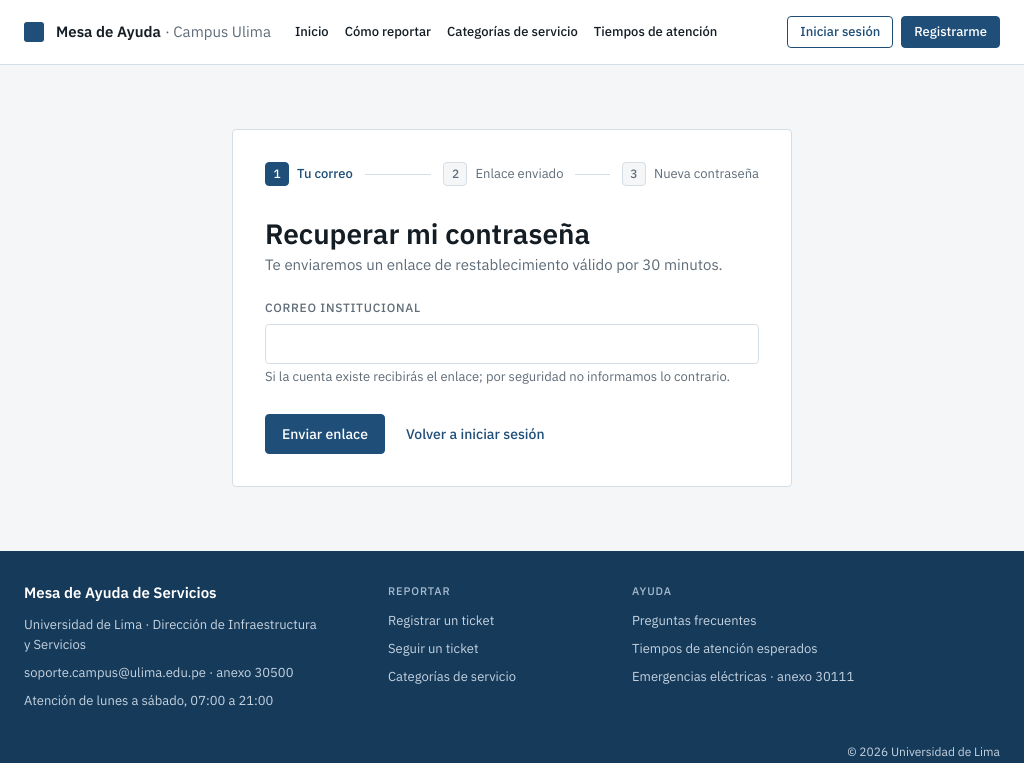
Test case: ForgotPasswordPage › con un correo sin cuenta muestra el mismo aviso, pero no llega ningún correo
Type "nadie.registrado@ulima.edu.pe" into the field labelled "Correo institucional" at (512, 344), box 265,324 -> 759,364
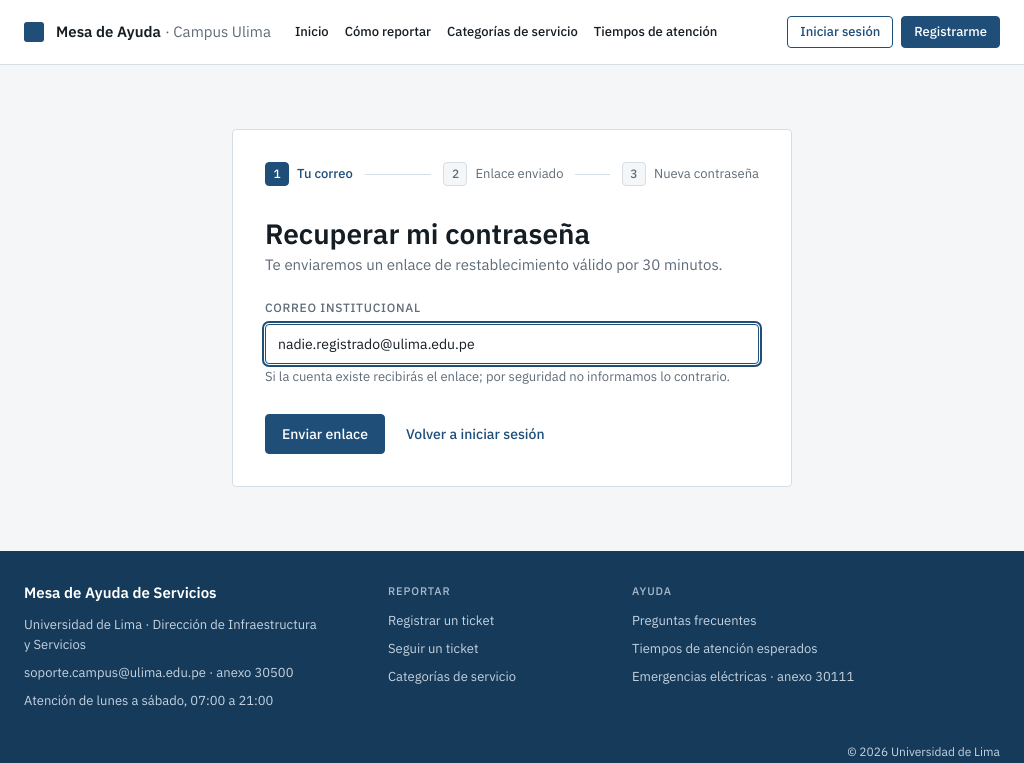
Click the button "Enviar enlace" at (325, 434), box 265,414 -> 385,454
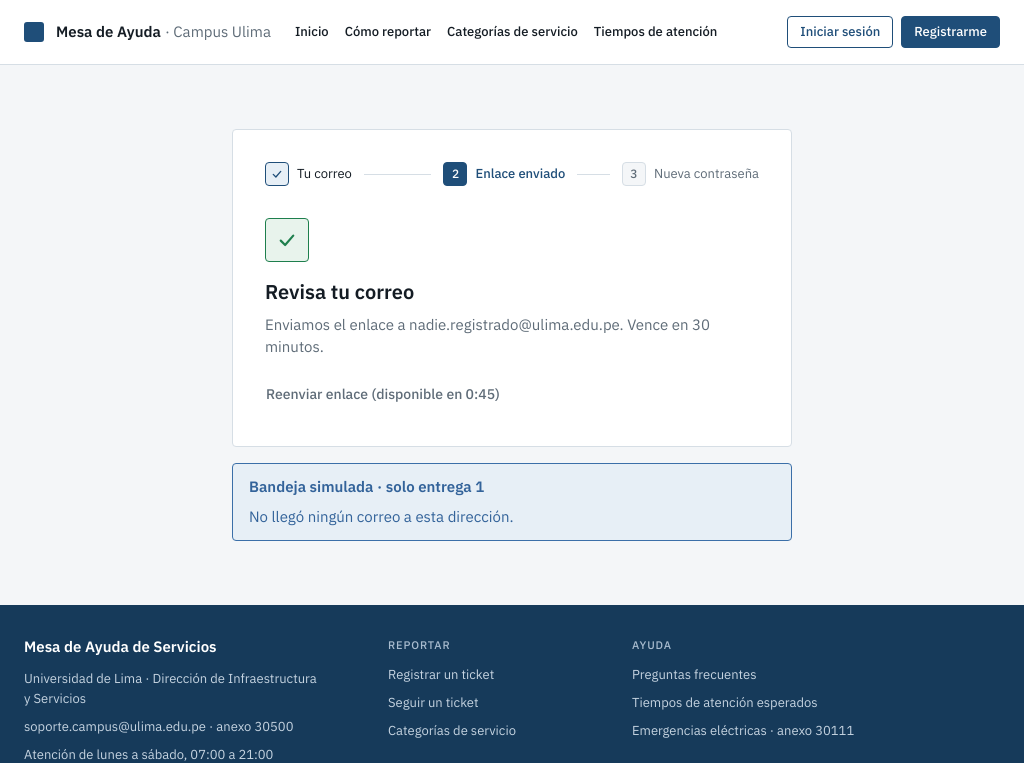
Result: the text "Enviamos el enlace a nadie.registrado@ulima.edu.pe. Vence en 30 minutos." is shown at 265,314 -> 759,358
Result: the message "Bandeja simulada · solo entrega 1" shows "No llegó ningún correo a esta dirección." at 249,507 -> 514,526
Result: the link "Volver a iniciar sesión" is gone
